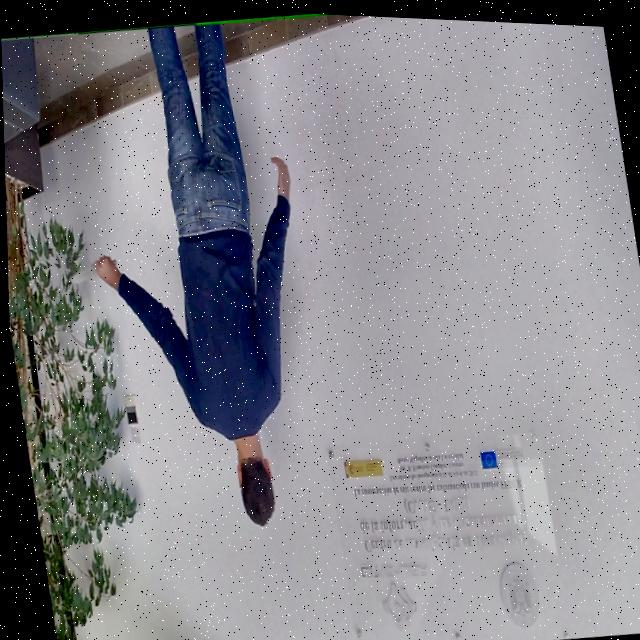knife: (64, 258, 97, 284)
